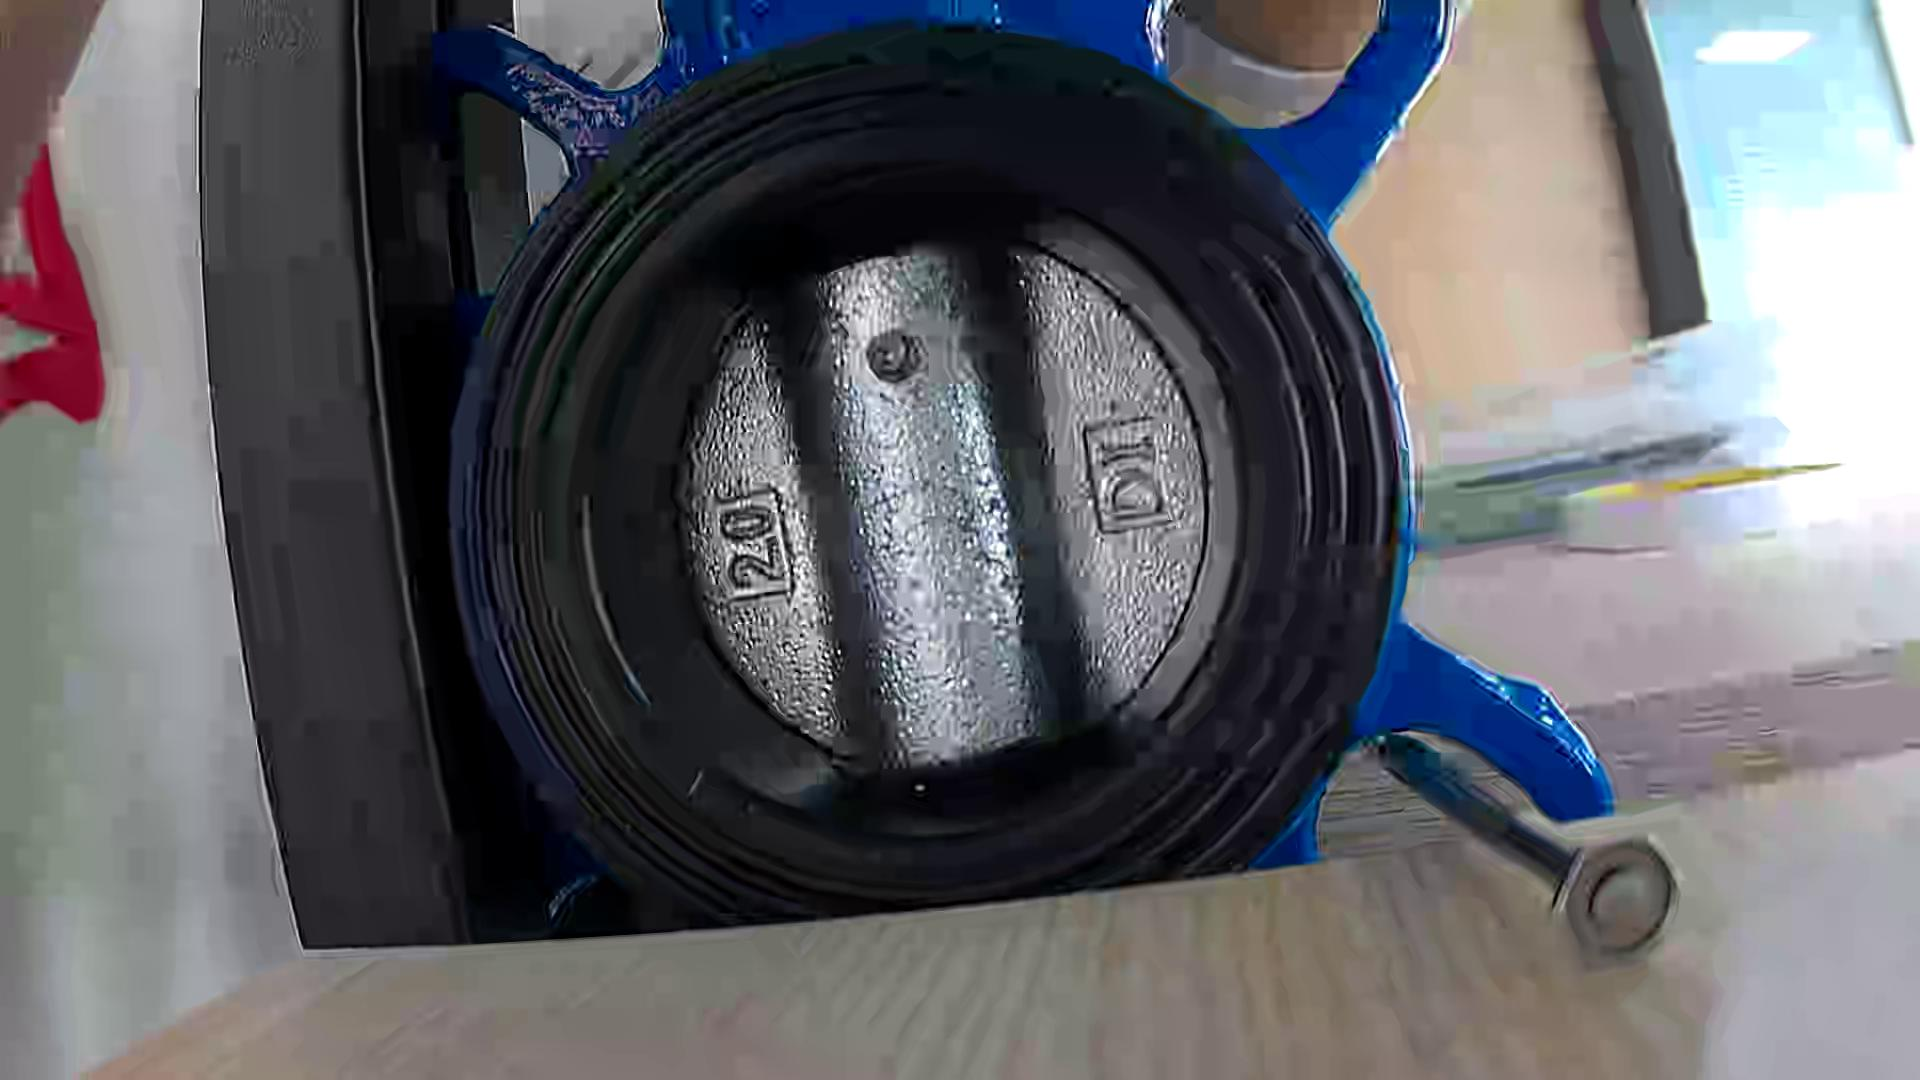valve: (681, 247, 1207, 763)
